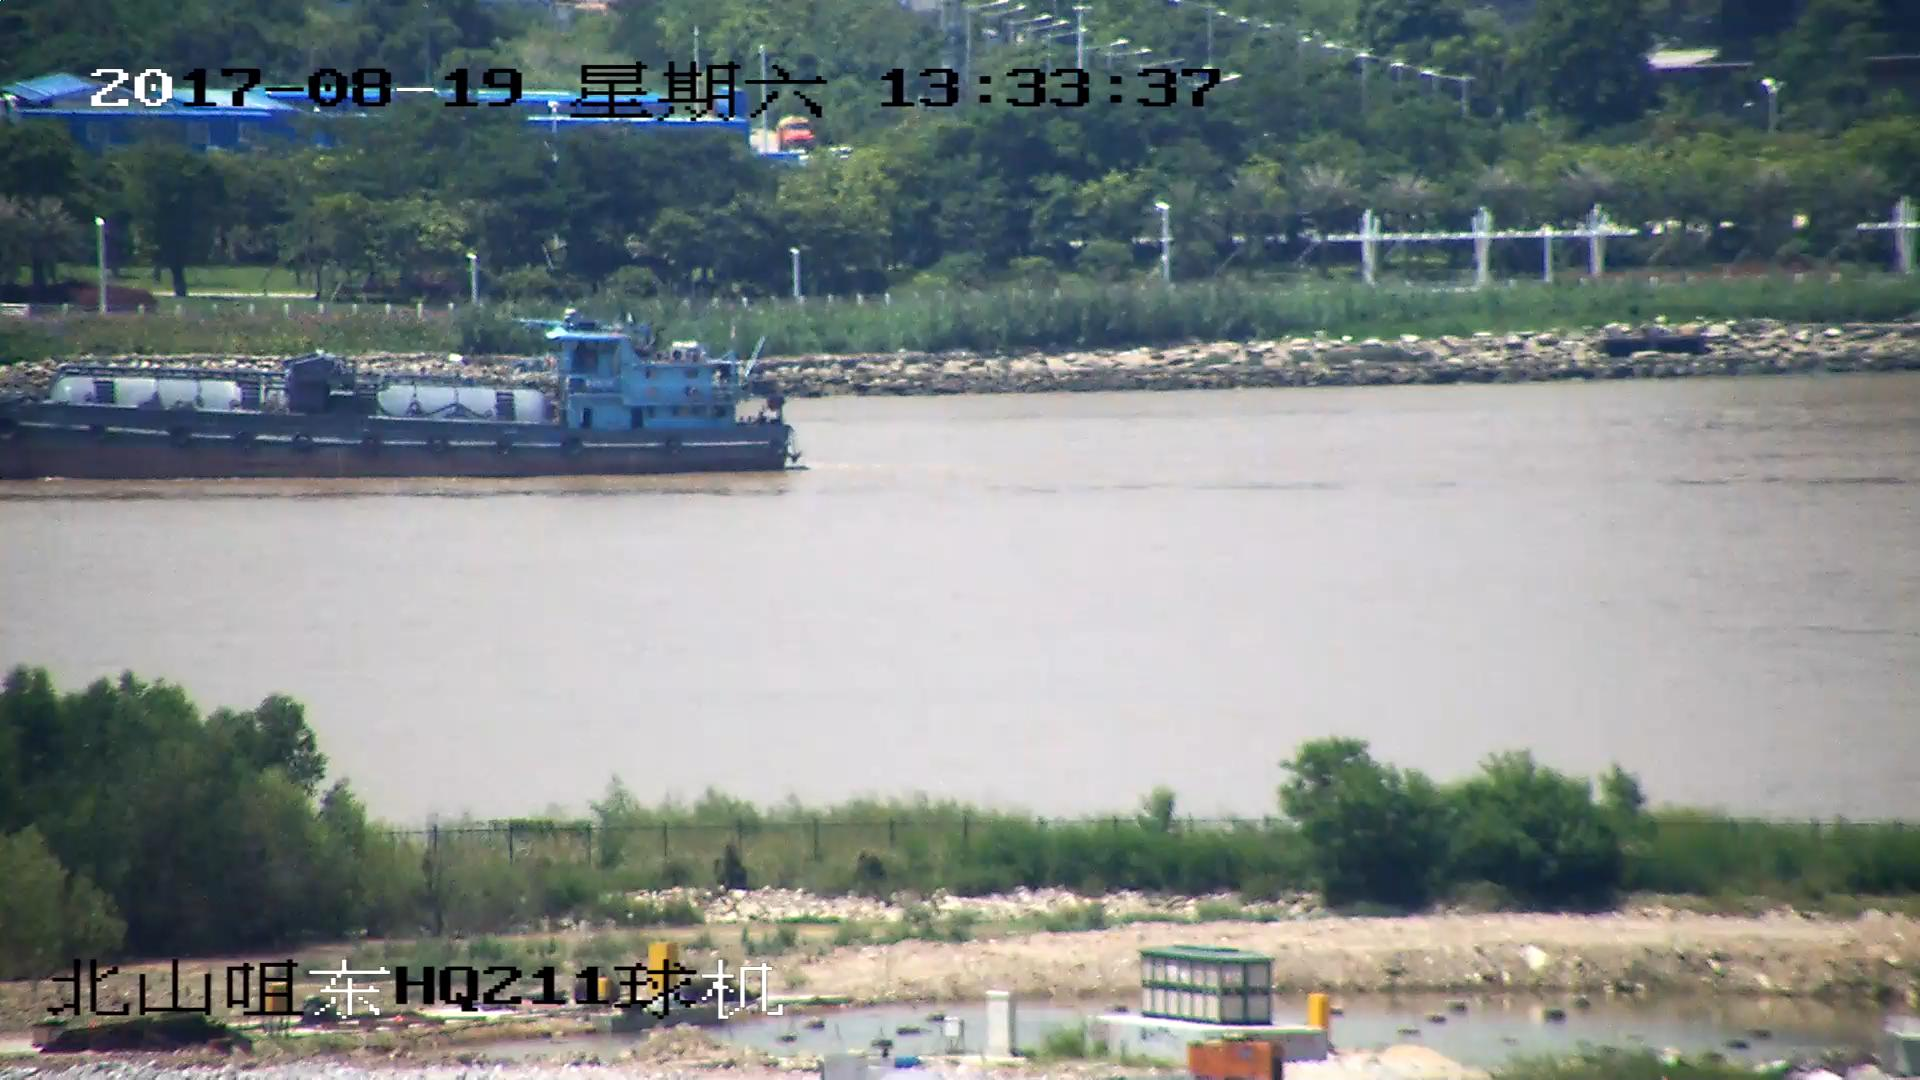bulk cargo carrier: (1, 317, 800, 477)
